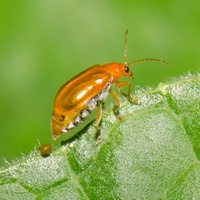insect: (39, 30, 168, 156)
